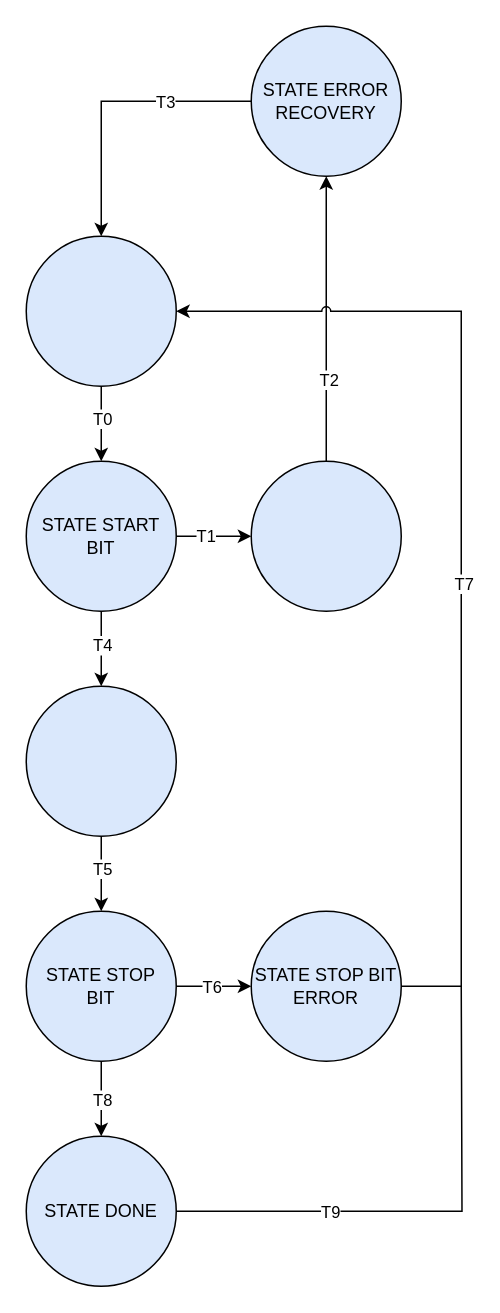
Image size: 500x1313. Some labels were removed from this diagram. The centre of each missing label's shape, as x and y in pixels:
STATE DATA BITS: the point at 100,760
STATE IDLE: the point at 100,310
STATE START BIT ERROR: the point at 325,535
